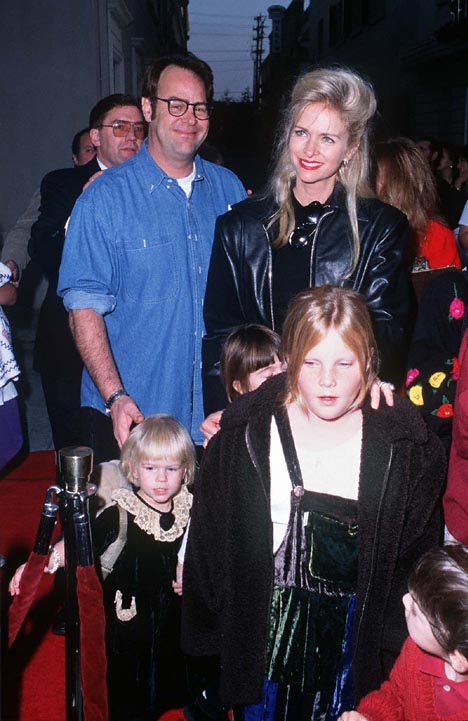15: (283, 311, 372, 431)
30: (279, 89, 354, 194)
33: (73, 124, 112, 180)
42: (91, 97, 151, 171)
5: (128, 438, 188, 510)
50: (145, 58, 217, 166)
8: (235, 339, 293, 415)
Bracelet: (41, 540, 67, 584)
Coat: (176, 377, 451, 671), (23, 159, 127, 379)
Dress: (258, 393, 373, 680), (88, 475, 208, 676)
EarRing: (341, 154, 358, 174)
Female: (283, 311, 372, 431), (279, 89, 354, 194), (234, 339, 292, 415), (128, 438, 188, 510)
Glasses: (134, 74, 232, 127), (282, 186, 329, 254), (85, 116, 152, 140)
Jacket: (193, 181, 426, 416)
Male: (145, 58, 217, 166), (91, 97, 151, 171), (73, 124, 112, 180)
Pants: (32, 367, 122, 491)
Shirt: (52, 141, 250, 435)
Watch: (97, 384, 140, 417)
Woolen Sweater: (353, 634, 444, 717)
